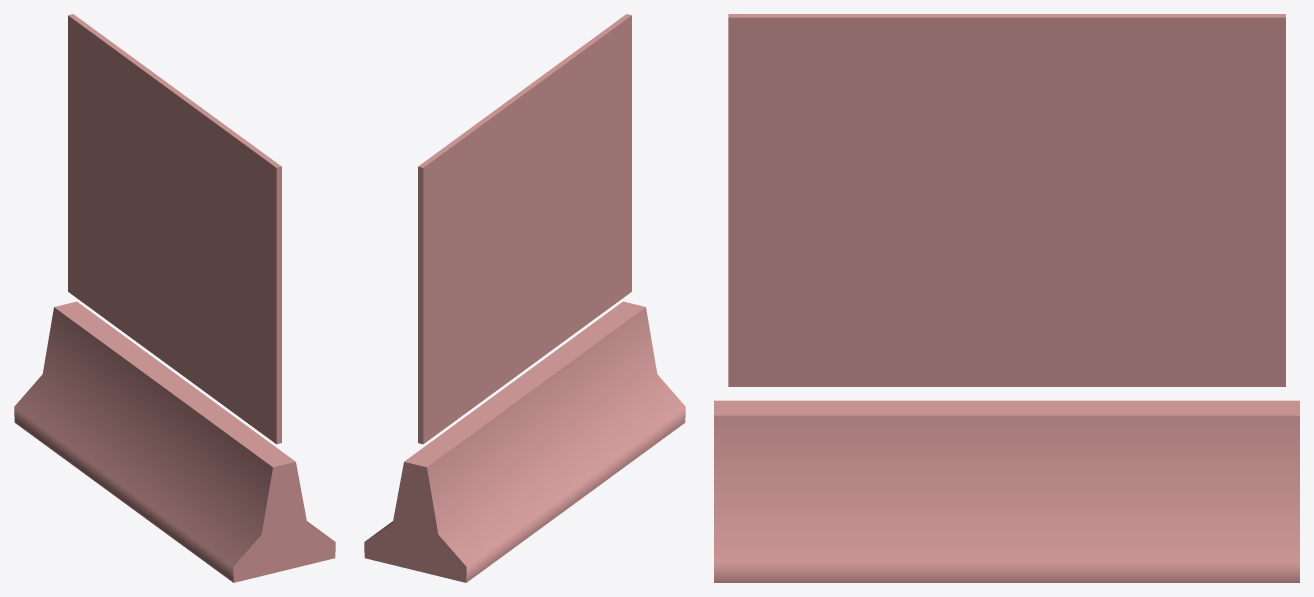
Rendered from Fence_C_A_COL.fbx.
3 views of the same model, side by side, from view 1: azimuth 30°, elevation 25°; view 2: azimuth 150°, elevation 25°; view 3: azimuth 270°, elevation 25° (orthographic). The views are drawn at different scales.
Parts seen in each view (by area): view 1: Fence_C_A_COL; view 2: Fence_C_A_COL; view 3: Fence_C_A_COL.
Boxes of the visible parts, bbox=[...] form: Fence_C_A_COL: bbox=[14, 14, 335, 582]; Fence_C_A_COL: bbox=[364, 14, 685, 582]; Fence_C_A_COL: bbox=[714, 14, 1299, 582].
Bounding box in the file's own units: 81.07 × 302 × 300.
